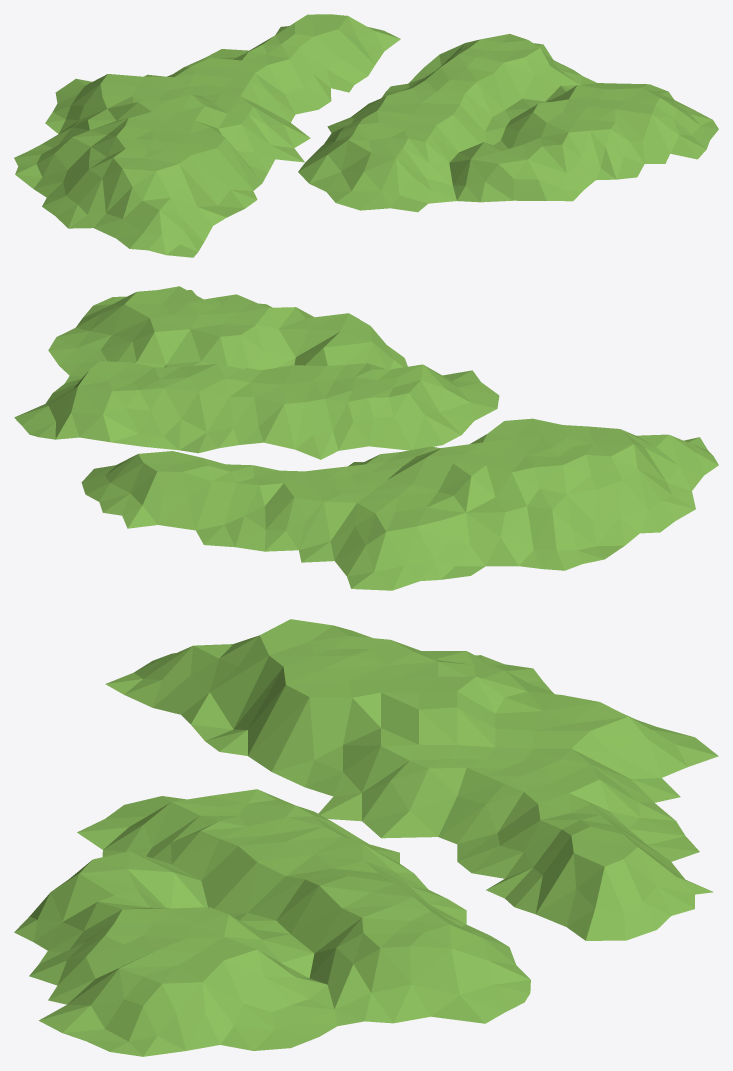
File: MT_Mountain_L_b_08.fbx
The picture shows the model from 3 angles, top to bottom: view 1: azimuth 30°, elevation 25°; view 2: azimuth 150°, elevation 25°; view 3: azimuth 270°, elevation 25°; orthographic projection. The views are drawn at different scales.
Parts seen in each view (by area): view 1: MT_Mountain_L_b_08; view 2: MT_Mountain_L_b_08; view 3: MT_Mountain_L_b_08.
Part boxes in pixels (x1=…): MT_Mountain_L_b_08: x1=14, y1=14, x2=718, y2=257; MT_Mountain_L_b_08: x1=14, y1=286, x2=718, y2=590; MT_Mountain_L_b_08: x1=14, y1=619, x2=718, y2=1056.
Size of the model in its own units: 8008 by 637 by 5787.
